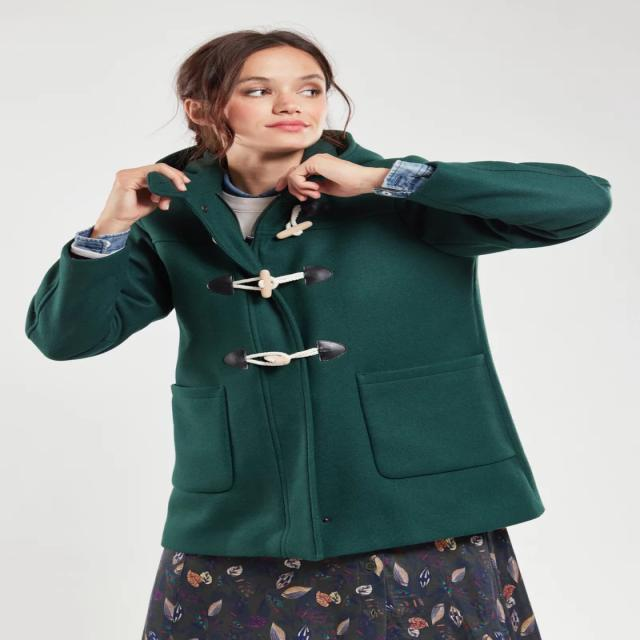coat: (19, 126, 616, 563)
skirt: (138, 525, 549, 640)
sweater: (218, 178, 296, 241)
